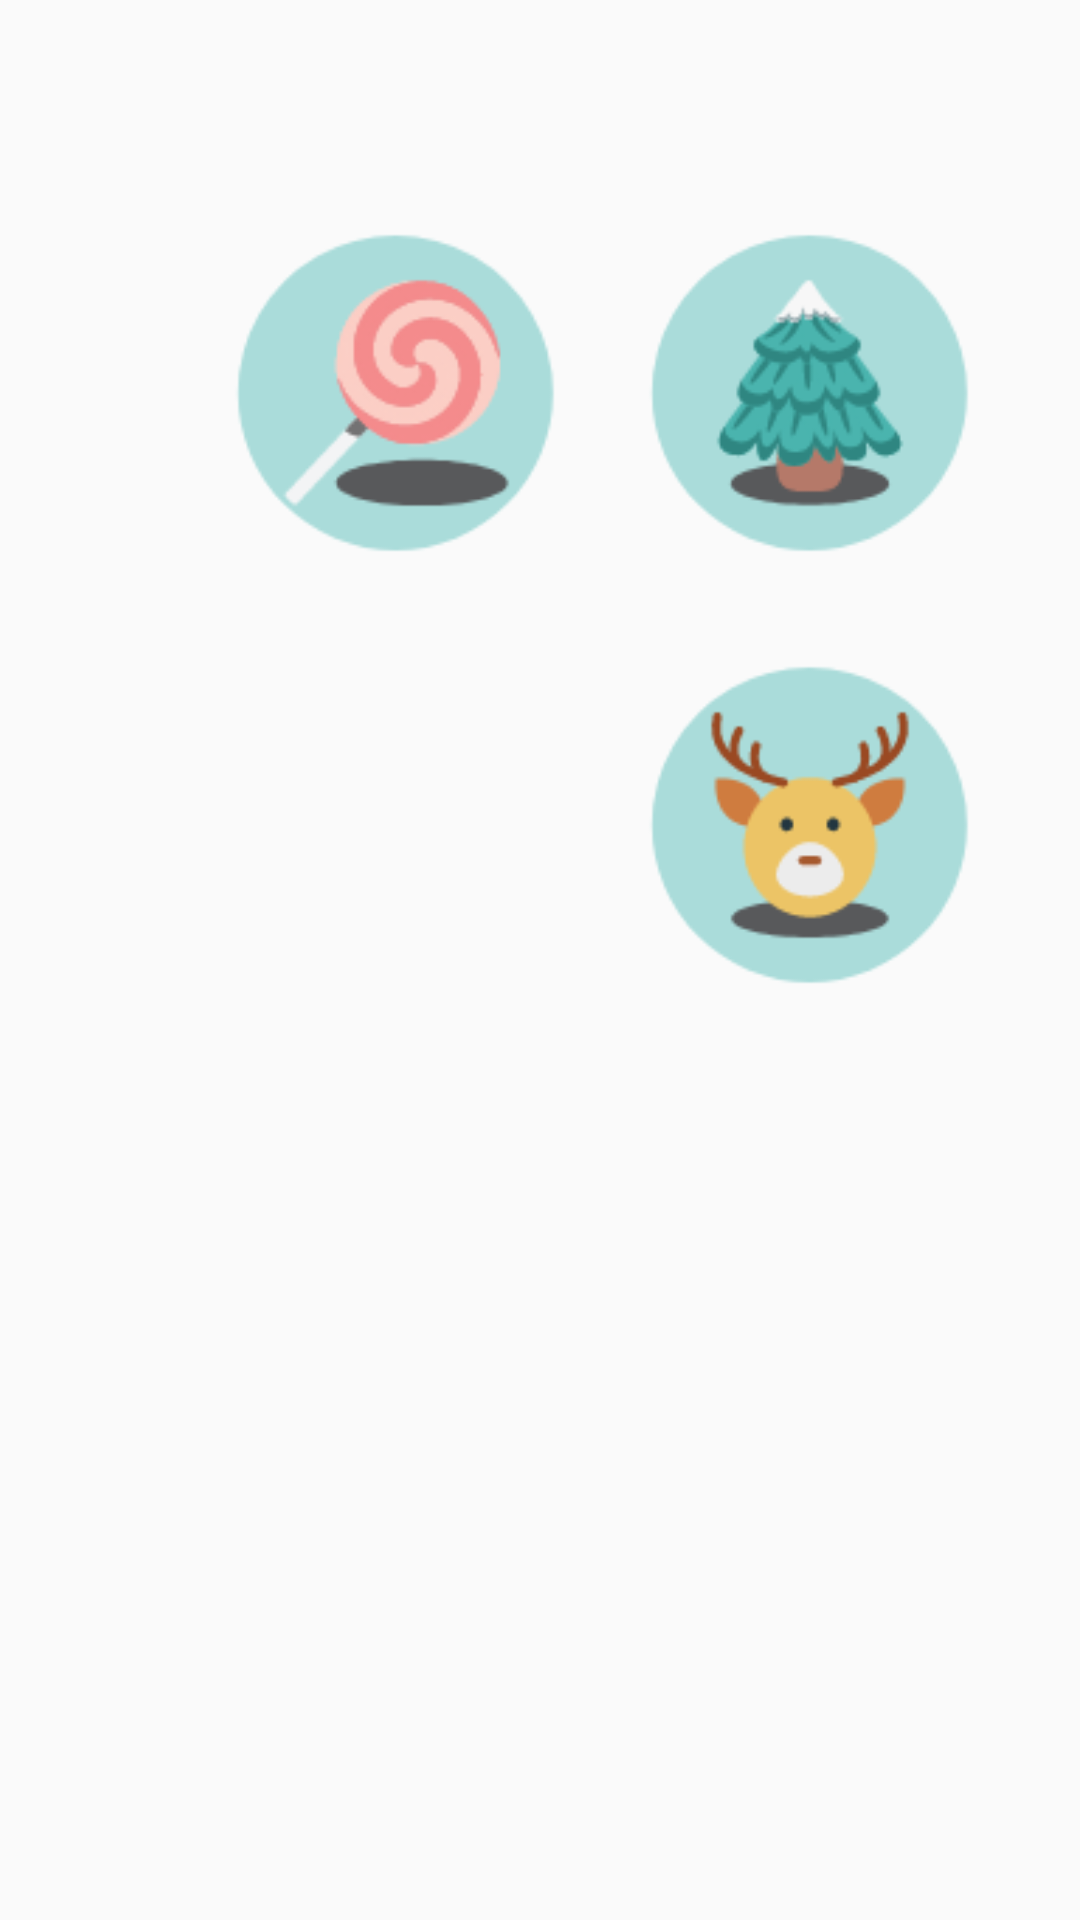

Named icons in this screenshot (1080w x 1920h) and their bounding boxes, (x1, y1, x2, y2):
bangtang: (238, 235, 554, 551)
shengdanshu: (652, 235, 968, 551)
xunlu: (652, 667, 968, 983)
